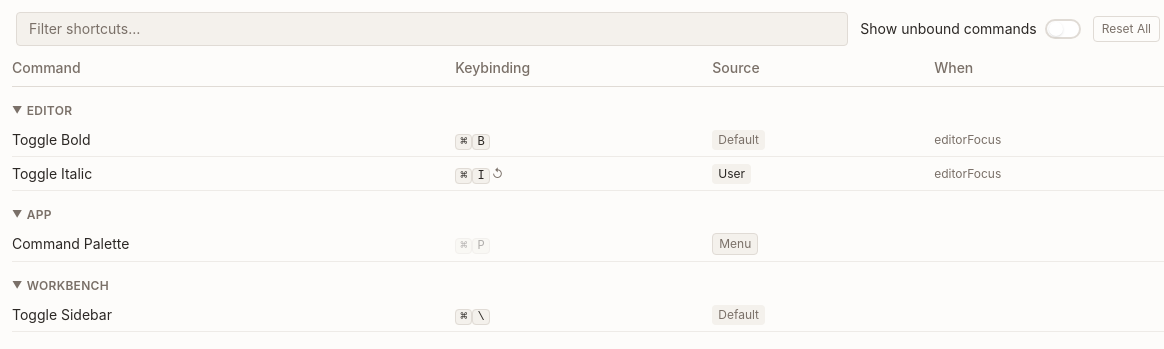
KeyboardShortcutsPanel › shows empty state when filter matches nothing
The width and height of the screenshot is (1164, 349).
In the field with test id "shortcuts-filter": (432, 29) [16, 12, 848, 46], type "zzzznothing"
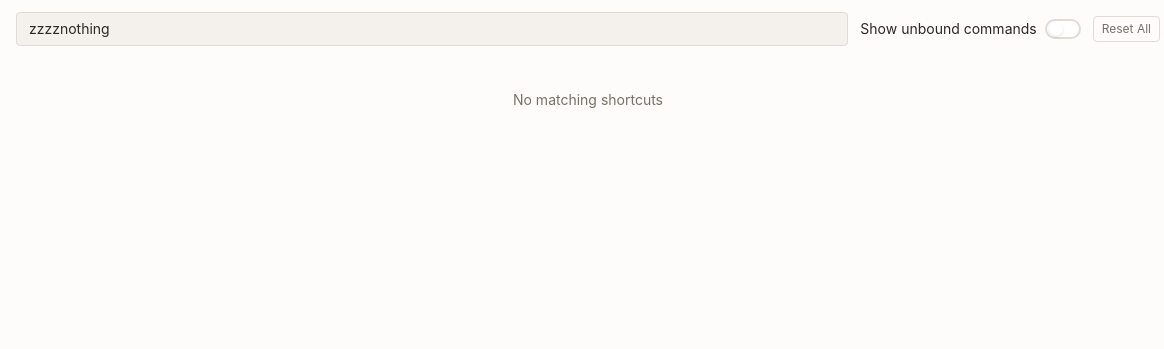
Expected: the text "No matching shortcuts" is shown, [513, 91, 663, 108]
